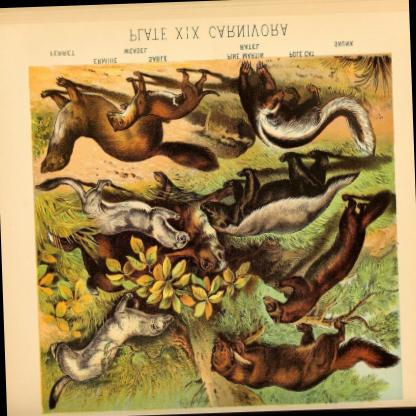Animal: (43, 182, 234, 296), (36, 70, 223, 174), (260, 188, 398, 327), (209, 314, 406, 397), (44, 289, 178, 410), (198, 146, 366, 242), (237, 55, 378, 162), (33, 173, 192, 255), (104, 68, 220, 134)
